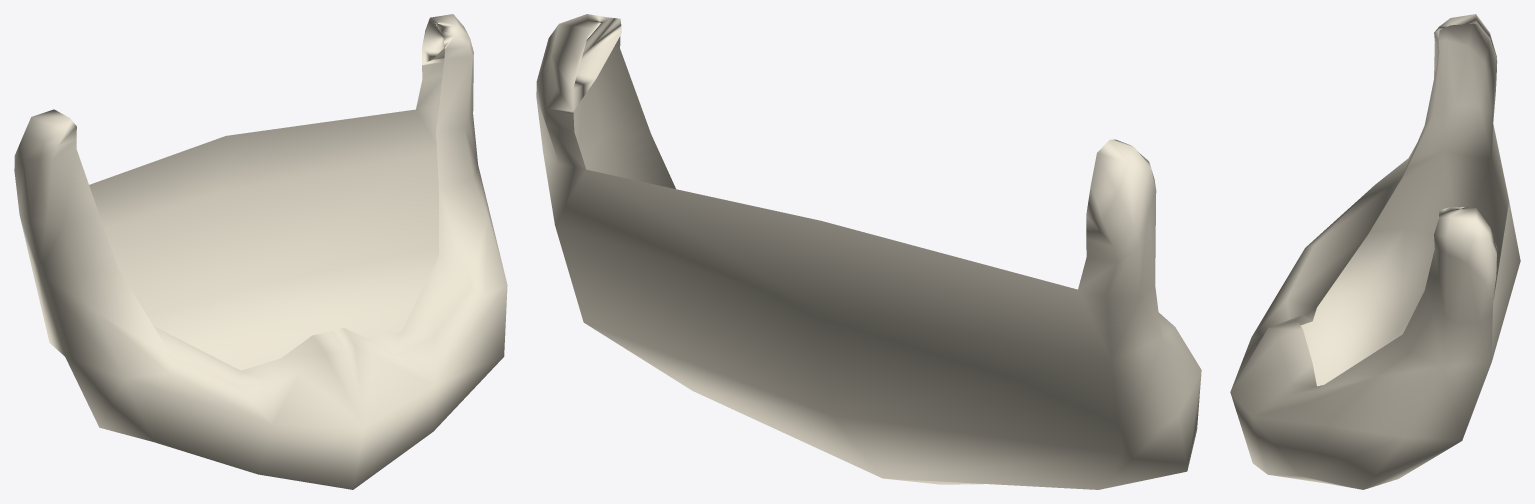
The model's file is Mustache_17.fbx.
3 views of the same model, side by side, from view 1: azimuth 30°, elevation 25°; view 2: azimuth 150°, elevation 25°; view 3: azimuth 270°, elevation 25° (orthographic). The views are drawn at different scales.
Visible parts, largest first — view 1: Mustache_17; view 2: Mustache_17; view 3: Mustache_17.
Part boxes in pixels (<box>): Mustache_17: <box>14,14,507,489</box>; Mustache_17: <box>536,14,1201,489</box>; Mustache_17: <box>1230,14,1520,489</box>.
Bounding box in the file's own units: 52.51 × 38.74 × 29.34.
